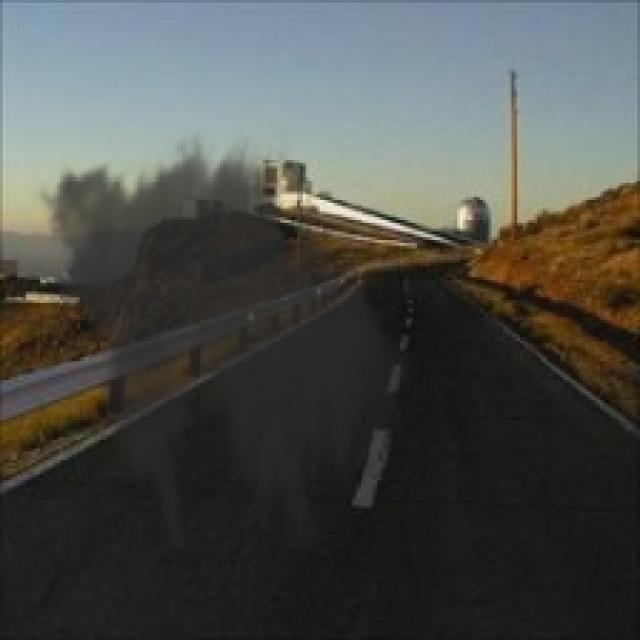Smoke: (28, 128, 426, 548)
